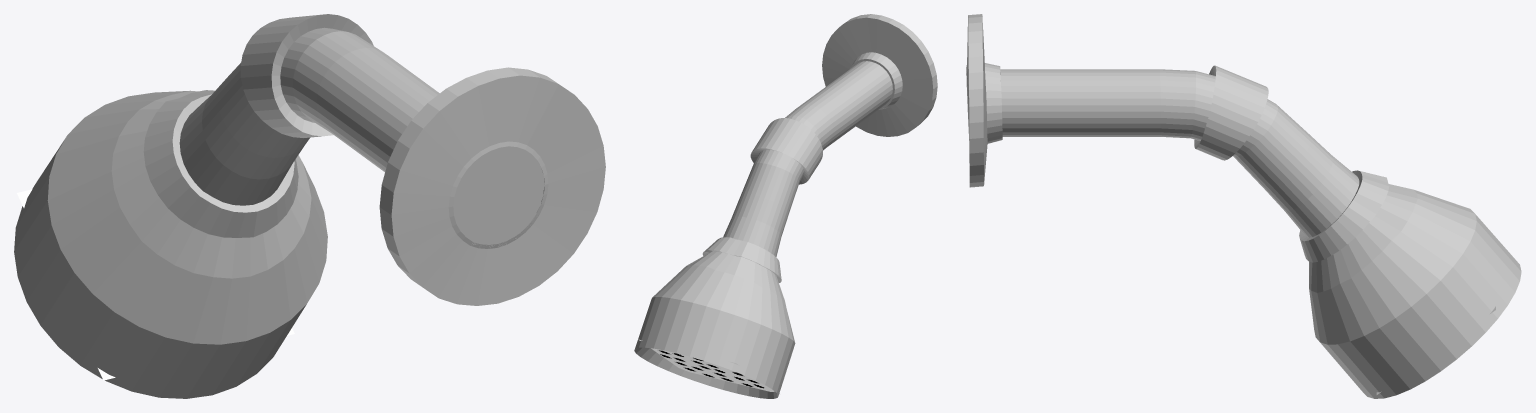
The model's file is shower_head (1).fbx.
3 renders of one model, left to right at view 1: azimuth 30°, elevation 25°; view 2: azimuth 150°, elevation 25°; view 3: azimuth 270°, elevation 25°, orthographic. The views are drawn at different scales.
Visible parts, largest first — view 1: shower_head; view 2: shower_head; view 3: shower_head.
Part boxes in pixels (x1,y1,x2,y2): shower_head: (14,14,605,398); shower_head: (634,14,937,398); shower_head: (966,14,1521,398).
Bounding box in the file's own units: 10.28 × 20.23 × 28.1.
